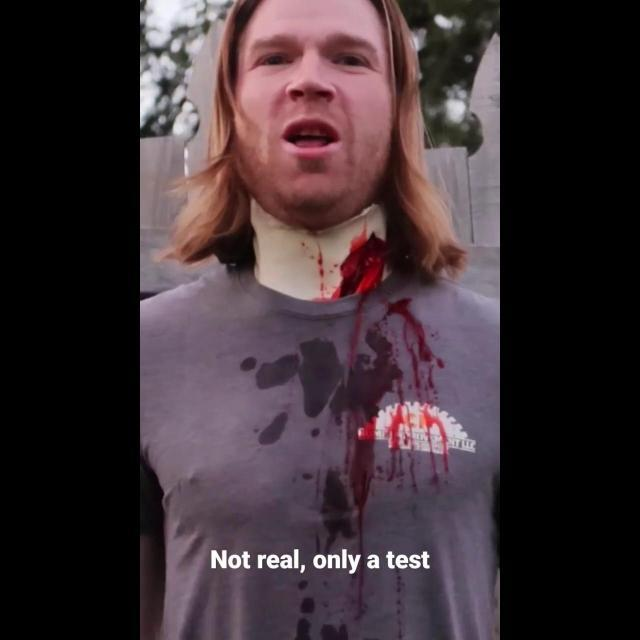blood: (298, 291, 450, 570), (278, 215, 386, 300), (347, 552, 408, 640)
